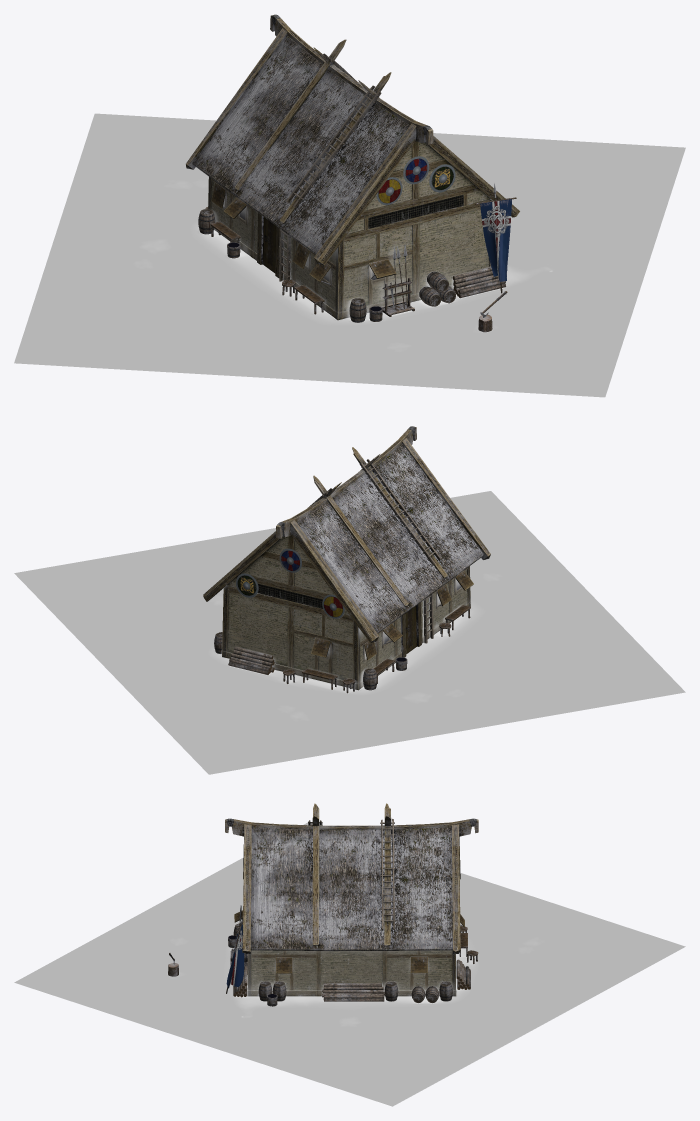
The picture shows the model from 3 angles, top to bottom: view 1: azimuth 30°, elevation 25°; view 2: azimuth 150°, elevation 25°; view 3: azimuth 270°, elevation 25°; orthographic projection. The views are drawn at different scales.
Visible parts, largest first — view 1: Show1, polySurface531, Fake_Shadow1, polySurface607, polySurface867, polySurface533, polySurface848, polySurface862, polySurface729, polySurface766, polySurface536, polySurface764 (+14 smaller); view 2: Show1, polySurface531, Fake_Shadow1, polySurface734, polySurface868, polySurface766, polySurface862, polySurface684, polySurface533, polySurface729, polySurface768, polySurface680 (+7 smaller); view 3: Show1, polySurface757, Fake_Shadow1, polySurface606, polySurface870, polySurface872, polySurface764, polySurface768, polySurface810, polySurface732, polySurface758, polySurface534 (+2 smaller).
Part boxes in pixels (left/top/right/bottom): Show1: left=14, top=113, right=685, bottom=397; polySurface531: left=192, top=35, right=409, bottom=254; Fake_Shadow1: left=146, top=182, right=552, bottom=332; polySurface607: left=419, top=208, right=489, bottom=289; polySurface867: left=343, top=225, right=412, bottom=311; polySurface533: left=314, top=123, right=416, bottom=265; polySurface848: left=480, top=199, right=511, bottom=281; polySurface862: left=286, top=85, right=381, bottom=207; polySurface729: left=235, top=39, right=346, bottom=190; polySurface766: left=186, top=28, right=287, bottom=169; polySurface536: left=344, top=199, right=490, bottom=241; polySurface764: left=428, top=136, right=519, bottom=217; Show1: left=14, top=491, right=685, bottom=774; polySurface531: left=296, top=444, right=483, bottom=633; Fake_Shadow1: left=213, top=572, right=476, bottom=700; polySurface734: left=227, top=592, right=287, bottom=666; polySurface868: left=293, top=608, right=353, bottom=679; polySurface766: left=290, top=520, right=378, bottom=642; polySurface862: left=360, top=459, right=441, bottom=565; polySurface684: left=241, top=536, right=288, bottom=583; polySurface533: left=402, top=438, right=490, bottom=559; polySurface729: left=313, top=475, right=408, bottom=606; polySurface768: left=203, top=531, right=280, bottom=601; polySurface680: left=294, top=540, right=334, bottom=595; Show1: left=14, top=822, right=685, bottom=1106; polySurface757: left=250, top=827, right=452, bottom=950; Fake_Shadow1: left=167, top=946, right=477, bottom=1023; polySurface606: left=320, top=951, right=382, bottom=990; polySurface870: left=251, top=950, right=316, bottom=990; polySurface872: left=387, top=950, right=451, bottom=990; polySurface764: left=242, top=824, right=251, bottom=953; polySurface768: left=451, top=824, right=460, bottom=953; polySurface810: left=312, top=803, right=319, bottom=945; polySurface732: left=384, top=803, right=390, bottom=946; polySurface758: left=380, top=819, right=396, bottom=929; polySurface534: left=225, top=818, right=351, bottom=836.
Bounding box in the file's own units: 25.48 × 6.57 × 25.48.
